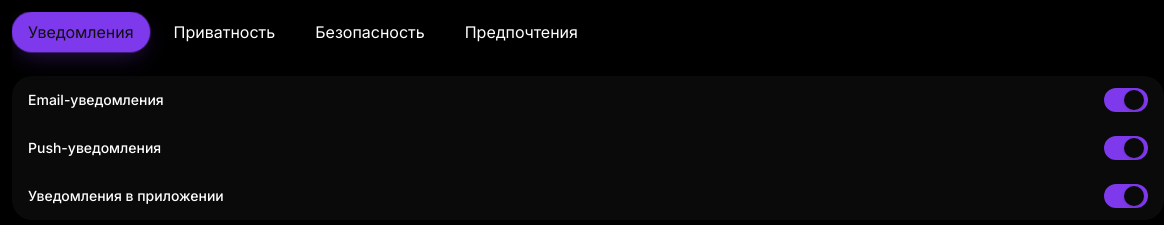
Test: SettingsTab › shows privacy content when its sub-tab is clicked
Click the tab "Приватность" at (224,32), box [158, 12, 291, 52]
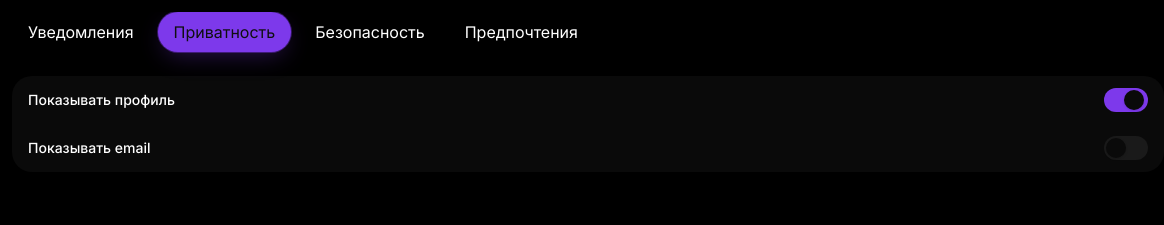
Now the text "Показывать профиль" is shown, box [28, 90, 175, 110]
Now the text "Показывать email" is shown, box [28, 138, 150, 158]
